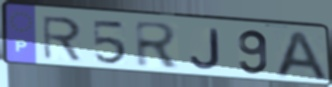5: (91, 18, 129, 66)
9: (237, 29, 269, 76)
A: (272, 29, 331, 83)
J: (189, 27, 223, 71)
R: (133, 20, 183, 70), (40, 15, 84, 63)
